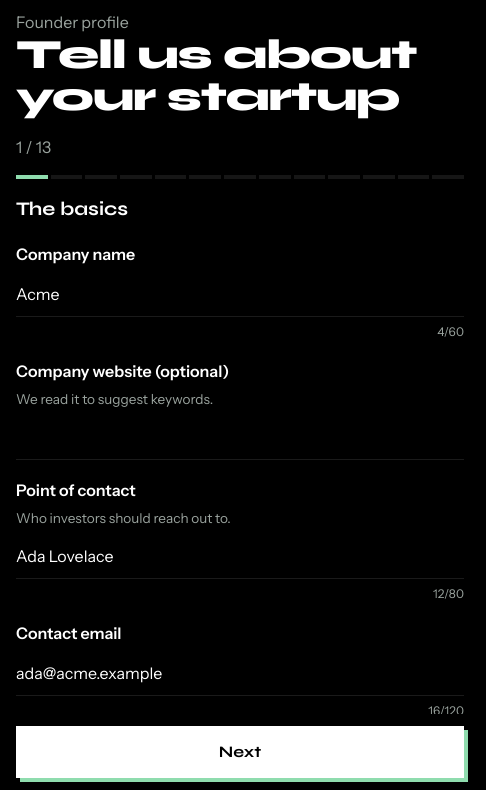
Scenario: Screening › disables unselected options once 3 are picked, keeps selected ones enabled, and shows the count
Click the button "Next": (240, 752) 16,726 -> 464,778
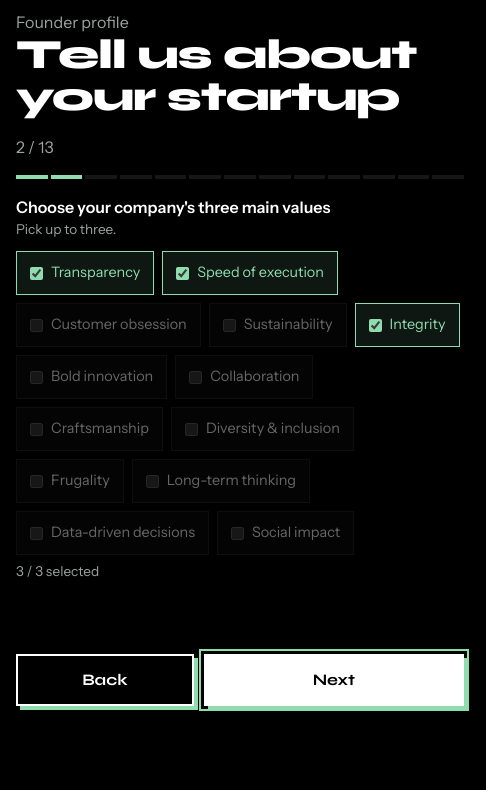
Result: the checkbox labelled "Craftsmanship" is disabled at 30,423 -> 43,436
Result: the checkbox labelled "Transparency" is enabled at 30,267 -> 43,280
Result: the text "3 / 3 selected" is shown at 16,563 -> 99,579
